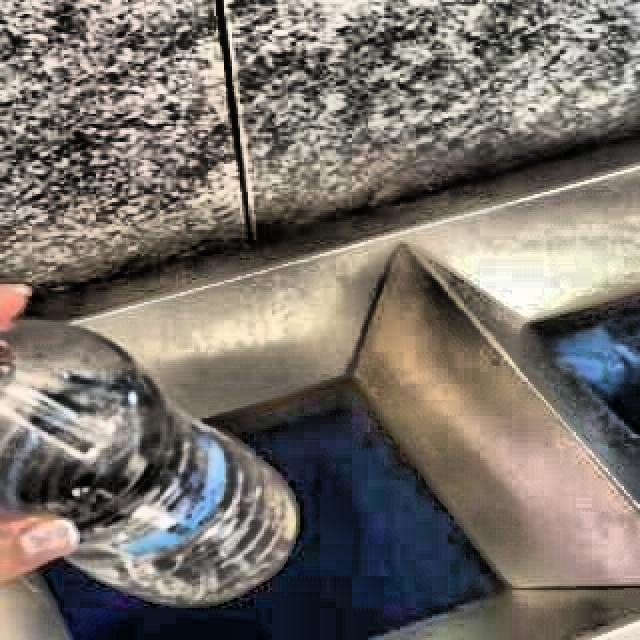plastic: (0, 322, 296, 607)
